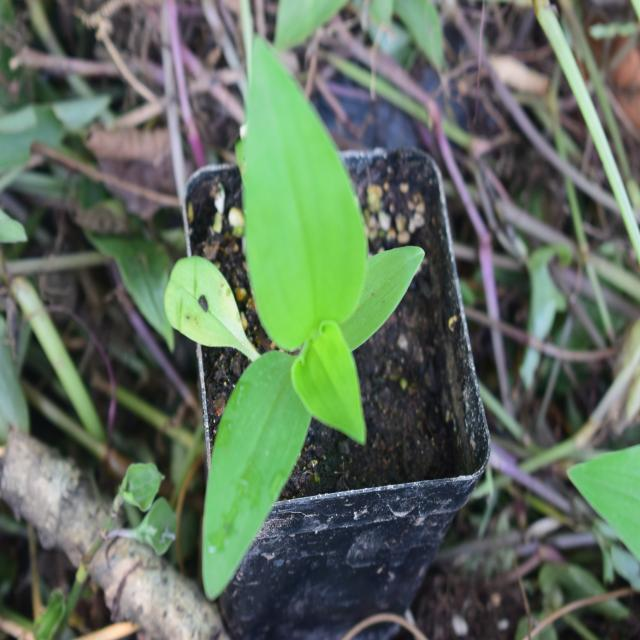Common Dayflower: (204, 32, 386, 584)
